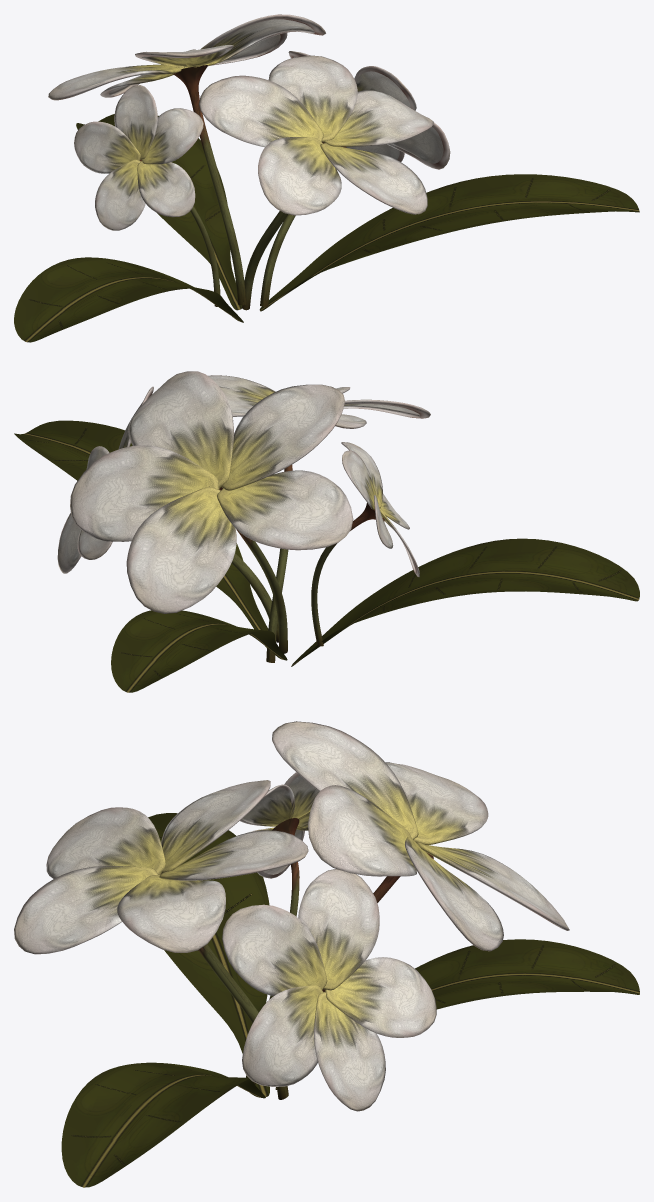
The model's file is cendana.fbx.
3 renders of one model, top to bottom at view 1: azimuth 30°, elevation 25°; view 2: azimuth 150°, elevation 25°; view 3: azimuth 270°, elevation 25°, orthographic. The views are drawn at different scales.
Visible parts, largest first — view 1: Cylinder, Plane.010, Plane.011, Plane.014, Plane.012, Plane.013, Plane.017, Plane.018, Plane.019, Plane.003, Plane.016, Plane.015 (+6 smaller); view 2: Cylinder, Plane, Plane.004, Plane.001, Plane.002, Plane.003, Plane.015, Plane.011, Plane.005, Plane.013, Plane.014, Plane.009 (+1 smaller); view 3: Cylinder, Plane.012, Plane.002, Plane.003, Plane.007, Plane.008, Plane.013, Plane.009, Plane.006, Plane.011, Plane.005, Plane.001 (+6 smaller).
Part boxes in pixels (x1,y1,x2,y2): Cylinder: (14,65,639,342); Plane.010: (199,75,323,147); Plane.011: (258,137,341,215); Plane.014: (268,55,357,142); Plane.012: (320,143,427,214); Plane.013: (324,90,433,146); Plane.017: (137,161,195,217); Plane.018: (95,159,145,230); Plane.019: (74,121,140,173); Plane.003: (186,14,325,66); Plane.016: (141,108,203,164); Plane.015: (114,85,157,159); Cylinder: (14,420,639,692); Plane: (126,486,236,613); Plane.004: (70,445,219,541); Plane.001: (217,470,353,550); Plane.002: (222,384,344,490); Plane.003: (128,371,233,487); Plane.015: (342,450,377,509); Plane.011: (343,399,430,418); Plane.005: (57,512,81,573); Plane.013: (208,375,275,397); Plane.014: (219,386,264,416); Plane.009: (77,529,112,559); Cylinder: (61,813,639,1187); Plane.012: (14,866,158,954); Plane.002: (272,721,418,839); Plane.003: (308,785,416,876); Plane.007: (222,904,327,995); Plane.008: (298,869,379,990); Plane.013: (117,874,225,952); Plane.009: (325,957,436,1037); Plane.006: (242,985,323,1086); Plane.011: (46,807,165,878); Plane.005: (314,992,385,1111); Plane.001: (385,762,488,845).
Bounding box in the file's own units: 283 × 125 × 207.
2 materials, 2 textured.
